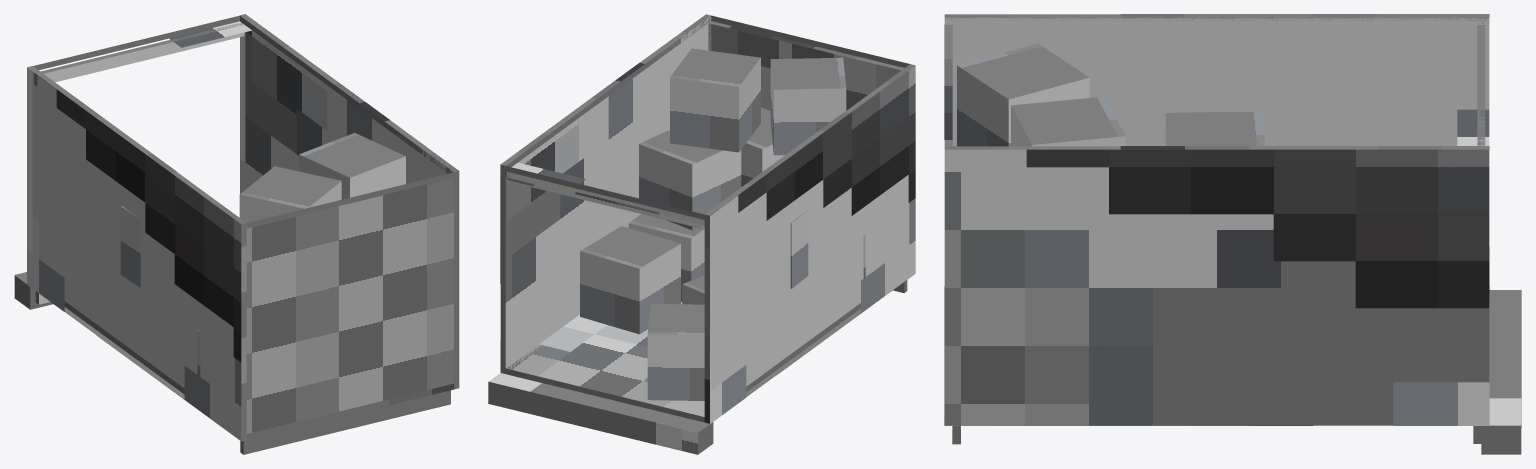
The model's file is brigbedbox.obj.
The picture shows the model from 3 angles, left to right: view 1: azimuth 30°, elevation 25°; view 2: azimuth 150°, elevation 25°; view 3: azimuth 270°, elevation 25°; orthographic projection. The views are drawn at different scales.
Visible parts, largest first — view 1: box, #translucent_mudAcc_main, crate13, crate14, door, crate10; view 2: box, #translucent_mudAcc_main, crate11, crate13, crate12, crate14, crate9, crate6, door, crate5, crate10, crate8; view 3: box, #translucent_mudAcc_main, crate14, crate13, crate10, door.
Boxes of the visible parts, x1=… form: box: x1=14, y1=15, x2=459, y2=454; #translucent_mudAcc_main: x1=14, y1=14, x2=459, y2=454; crate13: x1=299, y1=133, x2=405, y2=199; crate14: x1=239, y1=166, x2=341, y2=222; door: x1=34, y1=23, x2=244, y2=86; crate10: x1=120, y1=206, x2=140, y2=287; box: x1=489, y1=14, x2=915, y2=454; #translucent_mudAcc_main: x1=488, y1=26, x2=915, y2=454; crate11: x1=580, y1=226, x2=680, y2=334; crate13: x1=670, y1=48, x2=760, y2=152; crate12: x1=639, y1=130, x2=741, y2=230; crate14: x1=770, y1=57, x2=846, y2=155; crate9: x1=647, y1=303, x2=704, y2=400; crate6: x1=628, y1=214, x2=704, y2=301; door: x1=507, y1=172, x2=704, y2=229; crate5: x1=741, y1=107, x2=784, y2=186; crate10: x1=790, y1=210, x2=808, y2=288; crate8: x1=682, y1=275, x2=704, y2=304; box: x1=944, y1=14, x2=1521, y2=454; #translucent_mudAcc_main: x1=944, y1=14, x2=1521, y2=444; crate14: x1=957, y1=43, x2=1089, y2=146; crate13: x1=1011, y1=96, x2=1125, y2=146; crate10: x1=1165, y1=112, x2=1264, y2=145; door: x1=1477, y1=25, x2=1485, y2=145.
Size of the model in its own units: 2.5 by 2.63 by 4.5.
